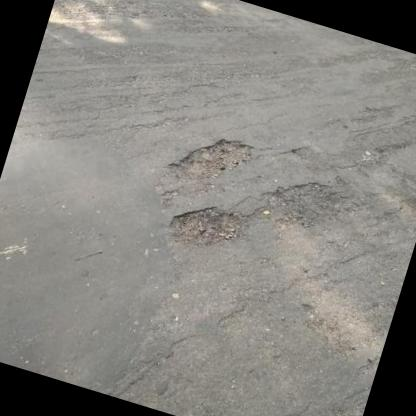pothole: (160, 118, 258, 199), (249, 164, 350, 240), (160, 191, 247, 262)
